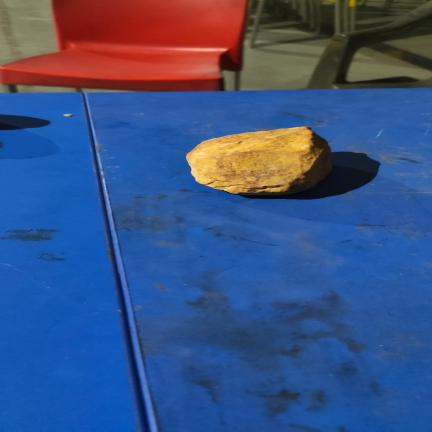Rocks: (187, 127, 331, 194)
